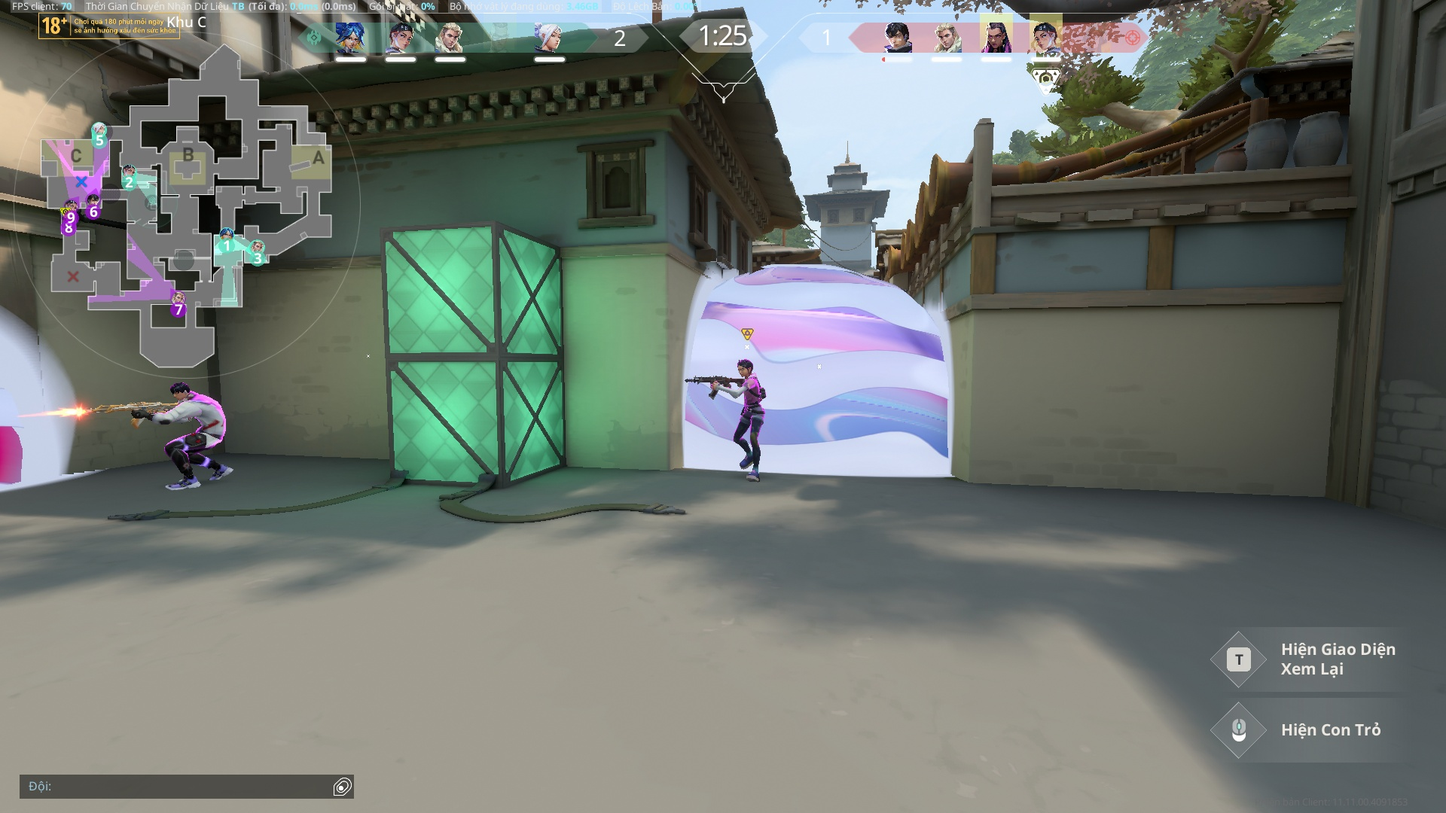body: (178, 394, 228, 432), (740, 376, 763, 409)
head: (169, 381, 191, 399), (736, 358, 754, 379)
